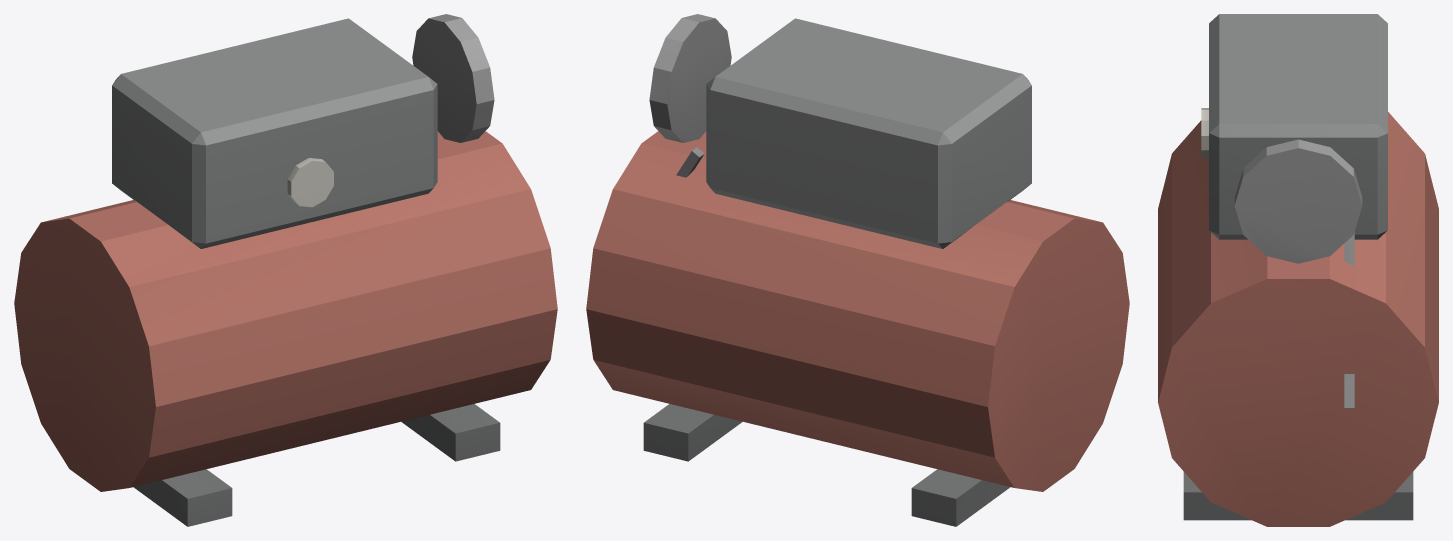
File: int_compressor.glb
3 views of the same model, side by side, from view 1: azimuth 30°, elevation 25°; view 2: azimuth 150°, elevation 25°; view 3: azimuth 270°, elevation 25° (orthographic).
Parts seen in each view (by area): view 1: int_compressor; view 2: int_compressor; view 3: int_compressor.
Part boxes in pixels (box(x1,y1,x2,y2)): int_compressor: box(14, 14, 557, 526); int_compressor: box(586, 14, 1129, 526); int_compressor: box(1158, 14, 1438, 526).
Bounding box in the file's own units: 1.87 × 1.65 × 1.1.
